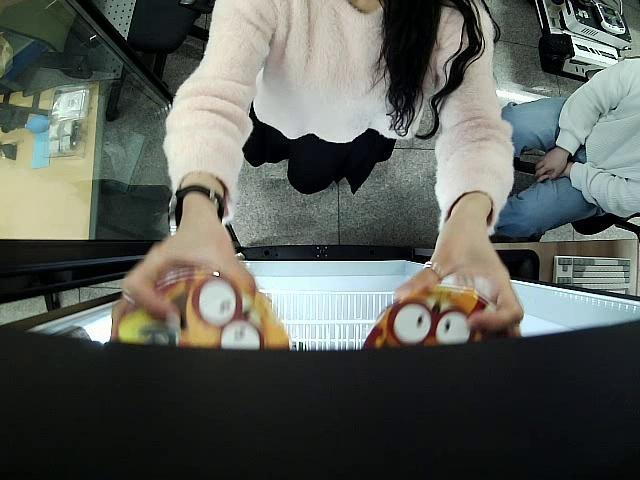05_nuguri_L: (108, 273, 292, 352), (366, 284, 518, 352)
